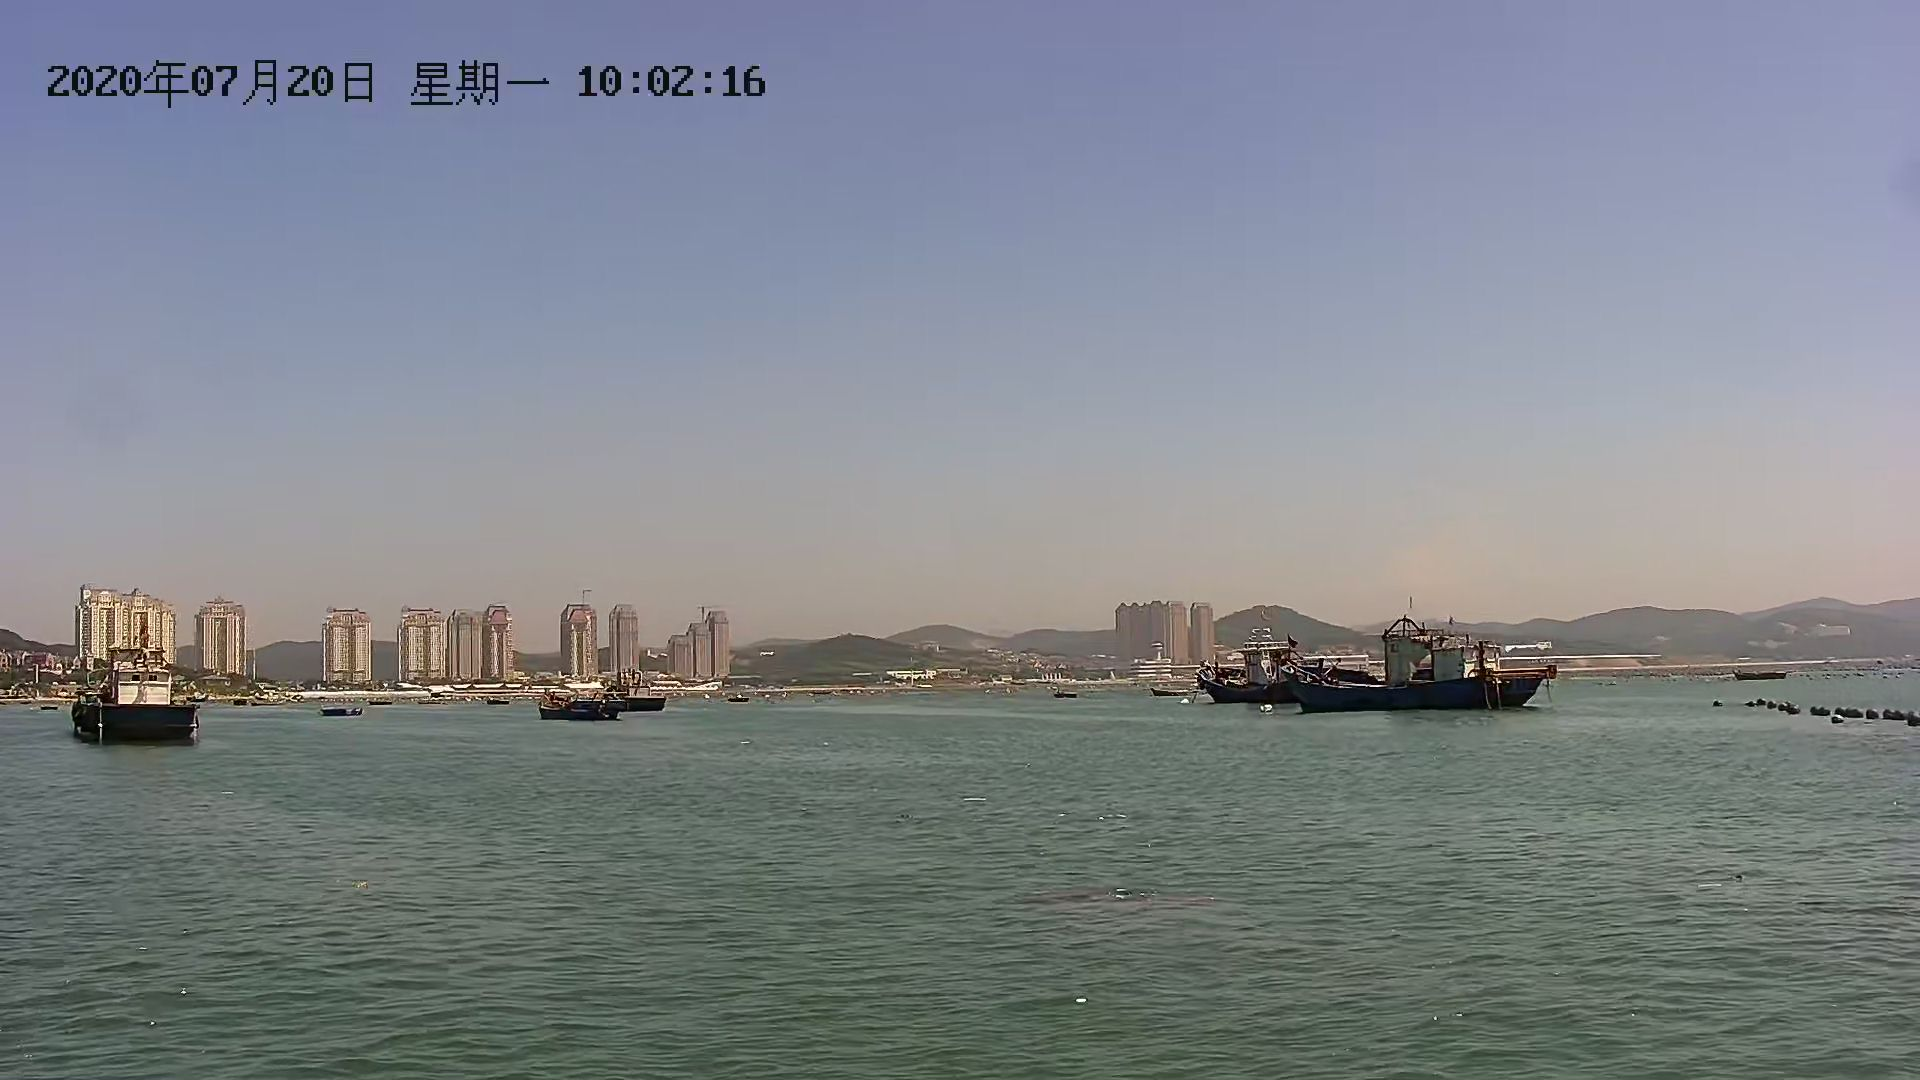boat: (534, 695, 616, 725), (593, 687, 673, 716), (1731, 665, 1789, 684)
ship: (1313, 617, 1564, 719), (69, 646, 207, 757), (1188, 644, 1377, 702)
